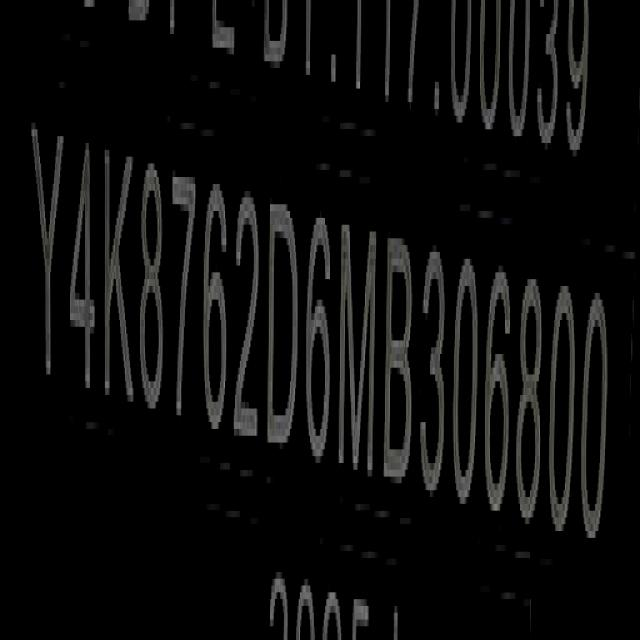0: (582, 294, 611, 546), (548, 283, 576, 535), (455, 256, 481, 509)
2: (233, 189, 261, 446)
3: (419, 247, 448, 502)
4: (69, 133, 98, 401)
6: (484, 263, 513, 517), (305, 213, 333, 468), (205, 180, 231, 438)
7: (173, 165, 200, 425)
8: (517, 271, 544, 527), (140, 156, 166, 414)
B: (386, 232, 417, 488)
D: (268, 198, 300, 458)
K: (103, 138, 136, 409)
M: (341, 220, 380, 479)
Y: (33, 115, 66, 395)
